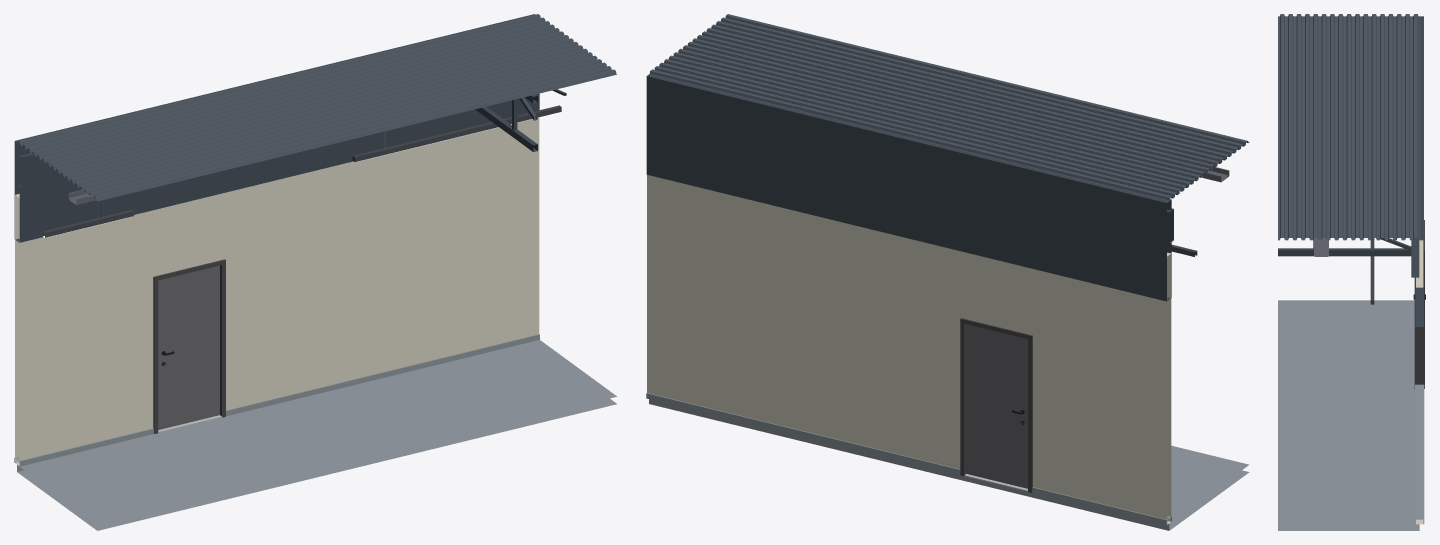
Rendered from context.meshopt.glb.
3 views of the same model, side by side, from view 1: azimuth 30°, elevation 25°; view 2: azimuth 150°, elevation 25°; view 3: azimuth 270°, elevation 25° (orthographic). The views are drawn at different scales.
Parts seen in each view (by area): view 1: Context_Wall_38_Clean, Context_Floor_Continuous_00, Context_Ceiling_Corrugated_Deck, Context_Wall_38_Top_Steel_Beam, Context_Door_06_CLOSED_Leaf, Context_Ceiling_Exposed_Steel_Trusses, Context_Wall_38_Skirting_3, Context_Hall_Lamp_North_05, Context_Door_06_CLOSED_Jamb_L, Context_Door_06_CLOSED_Jamb_R, Context_Wall_38_Skirting_2, Context_Hall_Lamp_North_04; view 2: Context_Wall_38_Clean, Context_Wall_38_Top_Steel_Beam, Context_Ceiling_Corrugated_Deck, Context_Door_06_CLOSED_Leaf, Context_Floor_Continuous_00, Context_Wall_38_Skirting_3, Context_Door_06_CLOSED_Jamb_R, Context_Wall_38_Skirting_2, Context_Door_06_CLOSED_Jamb_L; view 3: Context_Ceiling_Corrugated_Deck, Context_Floor_Continuous_00, Context_Wall_38_Top_Steel_Beam, Context_Ceiling_Exposed_Steel_Trusses, Context_Wall_38_Skirting_3, Context_Door_06_CLOSED_Jamb_R, Context_Wall_38_Clean, Context_Hall_Lamp_North_05, Context_Ceiling_Cable_Trays.
Boxes of the visible parts, x1,y1,x2,y2 form: Context_Wall_38_Clean: [15, 117, 539, 466]; Context_Floor_Continuous_00: [17, 340, 616, 530]; Context_Ceiling_Corrugated_Deck: [17, 14, 616, 201]; Context_Wall_38_Top_Steel_Beam: [14, 14, 539, 242]; Context_Door_06_CLOSED_Leaf: [158, 265, 219, 429]; Context_Ceiling_Exposed_Steel_Trusses: [17, 89, 566, 188]; Context_Wall_38_Skirting_3: [226, 334, 539, 416]; Context_Hall_Lamp_North_05: [352, 105, 561, 161]; Context_Door_06_CLOSED_Jamb_L: [153, 277, 158, 433]; Context_Door_06_CLOSED_Jamb_R: [220, 260, 225, 417]; Context_Wall_38_Skirting_2: [14, 428, 153, 466]; Context_Hall_Lamp_North_04: [43, 210, 133, 237]; Context_Wall_38_Clean: [647, 175, 1171, 524]; Context_Wall_38_Top_Steel_Beam: [646, 74, 1171, 301]; Context_Ceiling_Corrugated_Deck: [649, 14, 1249, 201]; Context_Door_06_CLOSED_Leaf: [966, 324, 1027, 488]; Context_Floor_Continuous_00: [649, 399, 1249, 530]; Context_Wall_38_Skirting_3: [646, 393, 960, 474]; Context_Door_06_CLOSED_Jamb_R: [960, 319, 966, 476]; Context_Wall_38_Skirting_2: [1032, 487, 1171, 525]; Context_Door_06_CLOSED_Jamb_L: [1028, 335, 1032, 492]; Context_Ceiling_Corrugated_Deck: [1278, 14, 1419, 240]; Context_Floor_Continuous_00: [1278, 300, 1419, 530]; Context_Wall_38_Top_Steel_Beam: [1415, 16, 1423, 326]; Context_Ceiling_Exposed_Steel_Trusses: [1278, 238, 1419, 277]; Context_Wall_38_Skirting_3: [1415, 384, 1424, 524]; Context_Door_06_CLOSED_Jamb_R: [1414, 251, 1424, 388]; Context_Wall_38_Clean: [1416, 240, 1423, 524]; Context_Hall_Lamp_North_05: [1370, 238, 1374, 304]; Context_Ceiling_Cable_Trays: [1314, 238, 1328, 256].
Size of the model in its own units: 7.3 by 4.45 by 2.04.
